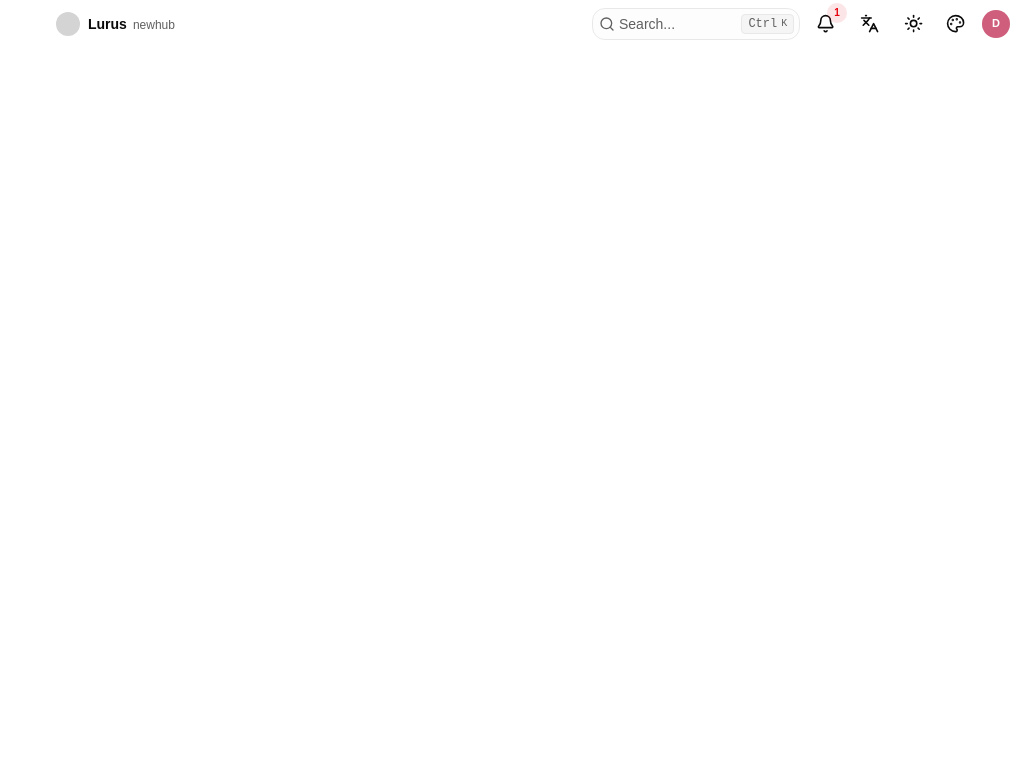
Test: notifications › shows an unread count for a new notice and clears it once opened
Check: the icon "1" is shown, box [827, 3, 847, 23]
Click the button named "Notifications".
click(826, 24)  # box [808, 6, 844, 42]
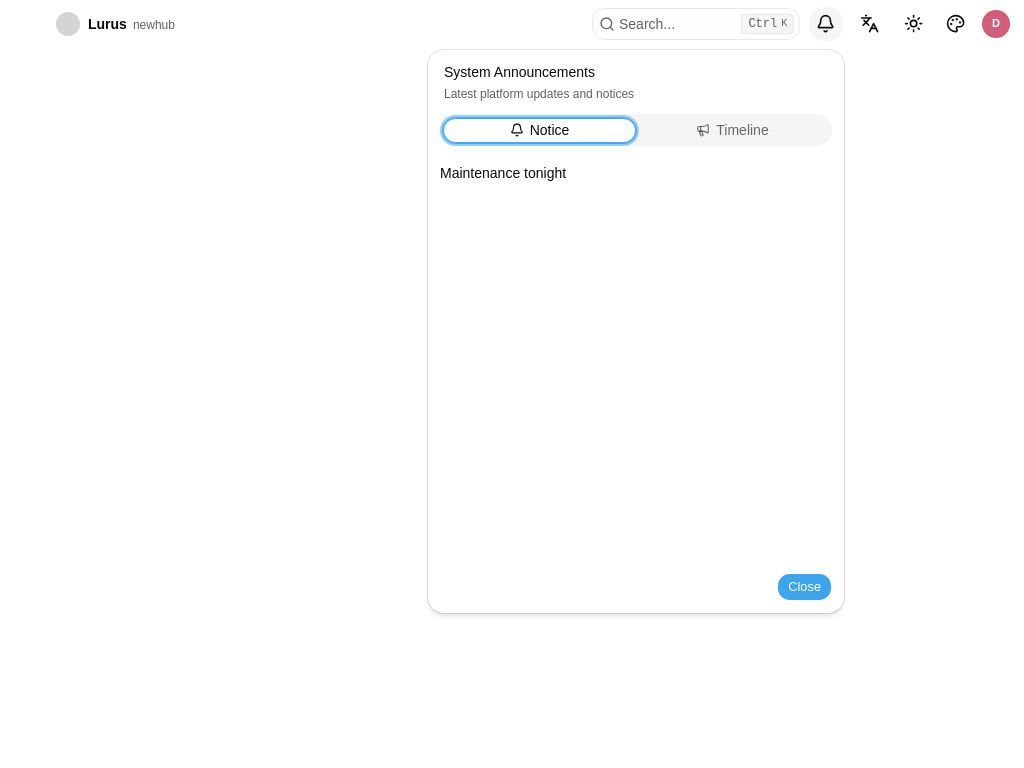
Check: the text "Maintenance tonight" is shown, box [440, 165, 566, 181]
Check: the icon "1" is gone
